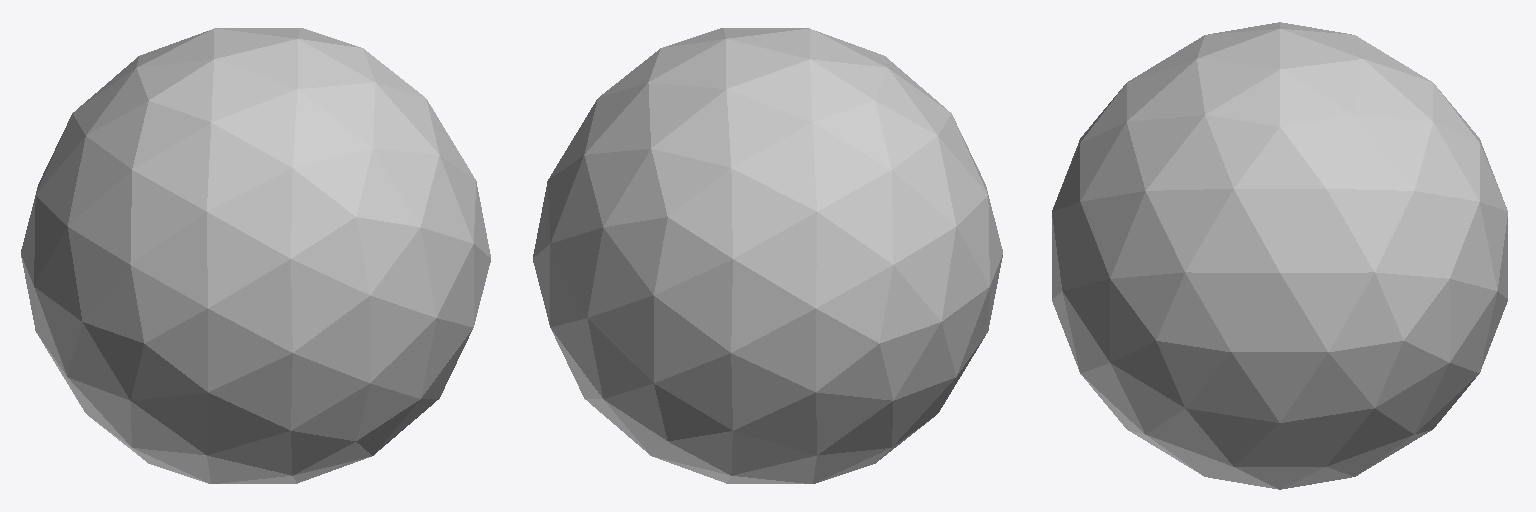
The model's file is sky_sphere.obj.
3 views of the same model, side by side, from view 1: azimuth 30°, elevation 25°; view 2: azimuth 150°, elevation 25°; view 3: azimuth 270°, elevation 25° (orthographic).
Parts seen in each view (by area): view 1: pSolid1; view 2: pSolid1; view 3: pSolid1.
Boxes of the visible parts, <box> form: pSolid1: <box>21,28,490,483</box>; pSolid1: <box>533,28,1002,483</box>; pSolid1: <box>1052,22,1507,489</box>.
Size of the model in its own units: 1295 by 1295 by 1295.